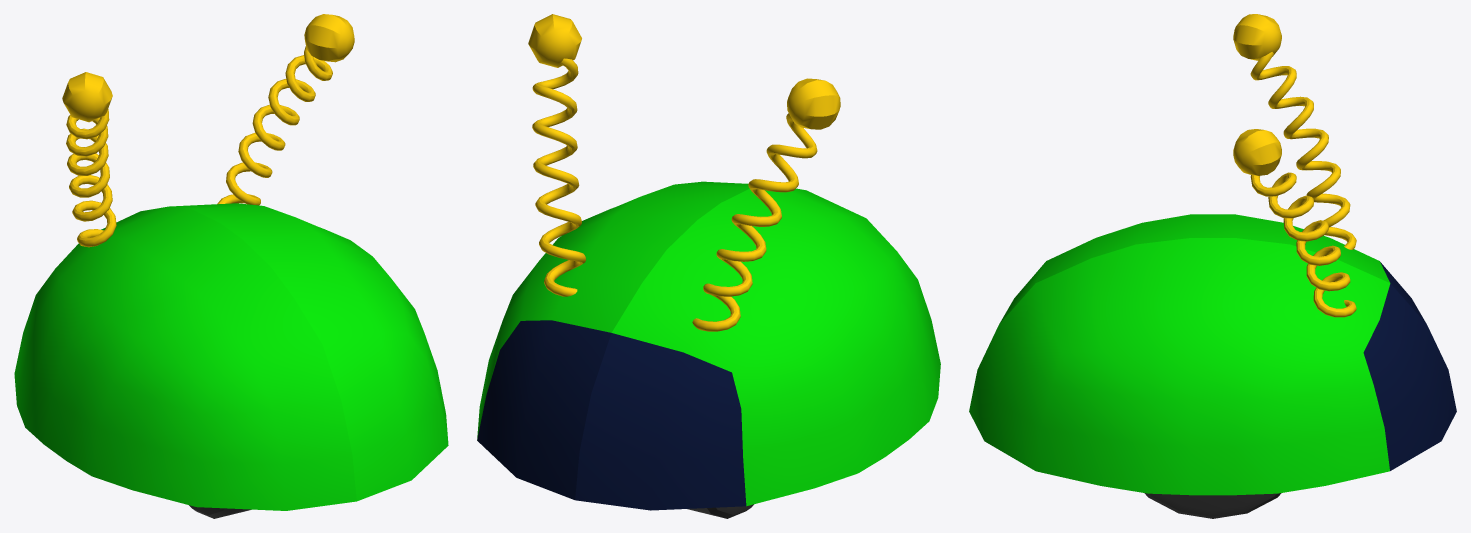
Rendered from robo-bug.fbx.
3 renders of one model, left to right at view 1: azimuth 30°, elevation 25°; view 2: azimuth 150°, elevation 25°; view 3: azimuth 270°, elevation 25°, orthographic. The views are drawn at different scales.
Visible parts, largest first — view 1: bug-wheel; view 2: bug-wheel; view 3: bug-wheel.
Part boxes in pixels (<box>): bug-wheel: <box>14,14,448,518</box>; bug-wheel: <box>477,14,940,518</box>; bug-wheel: <box>969,14,1456,518</box>.
Size of the model in its own units: 172 by 205 by 211.
